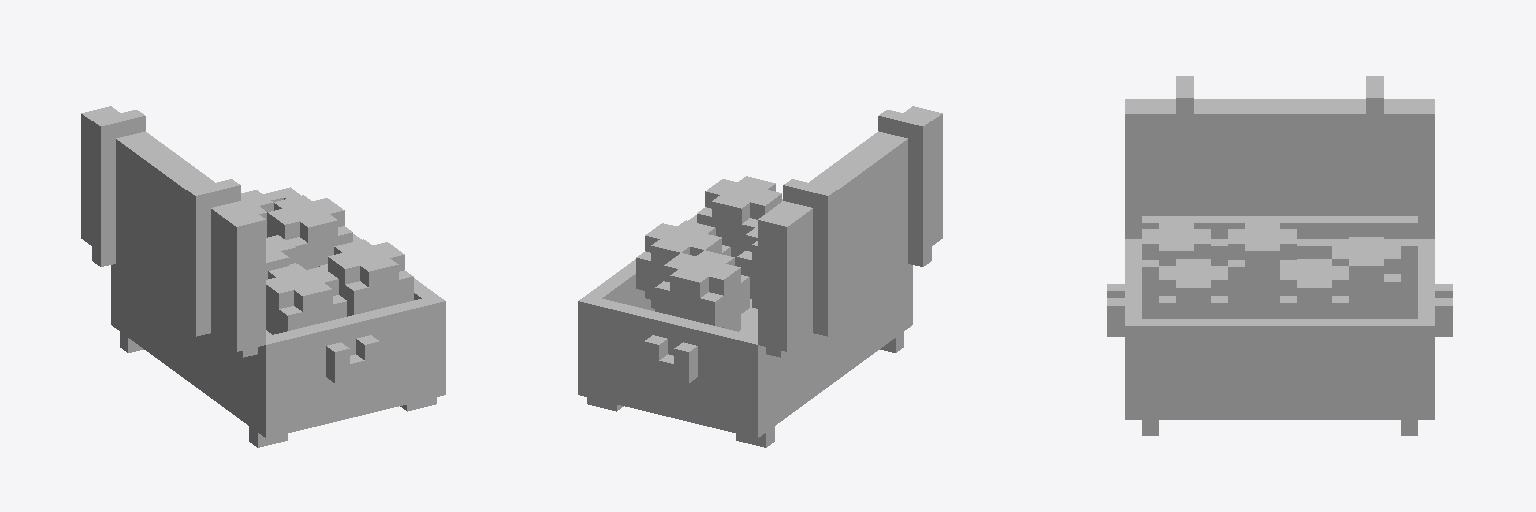
The model's file is Package 01 Necro Dungeon-36.obj.
The picture shows the model from 3 angles: view 1: azimuth 30°, elevation 25°; view 2: azimuth 150°, elevation 25°; view 3: azimuth 270°, elevation 25°; orthographic projection.
Parts seen in each view (by area): view 1: object 1; view 2: object 1; view 3: object 1.
Part boxes in pixels (bbox=[...]): object 1: bbox=[81, 106, 445, 447]; object 1: bbox=[578, 106, 942, 447]; object 1: bbox=[1107, 76, 1452, 435].
Bounding box in the file's own units: 1.5 × 1.6 × 2.